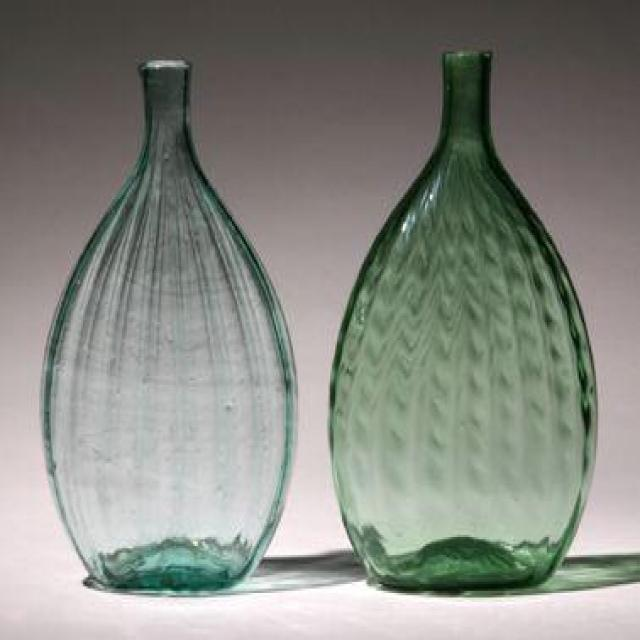non-organic waste: (330, 47, 601, 595), (43, 58, 299, 589)
